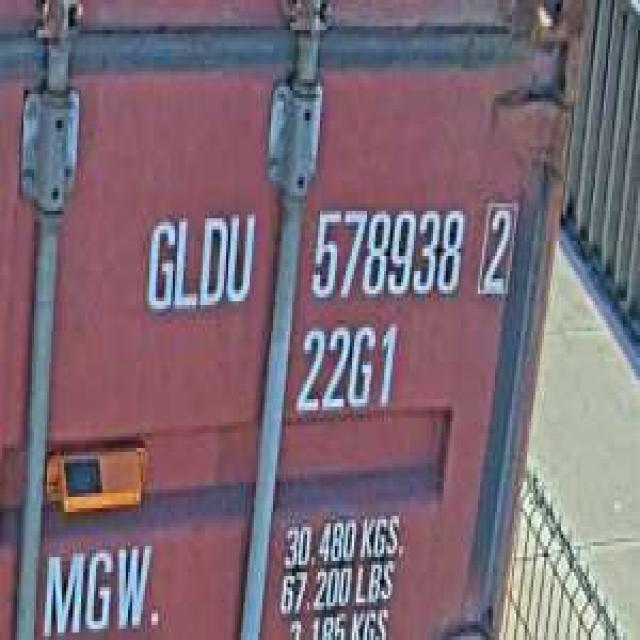dv: (476, 188, 520, 301)
owner: (137, 196, 258, 320)
serial: (303, 196, 467, 305)
size: (294, 313, 401, 422)
